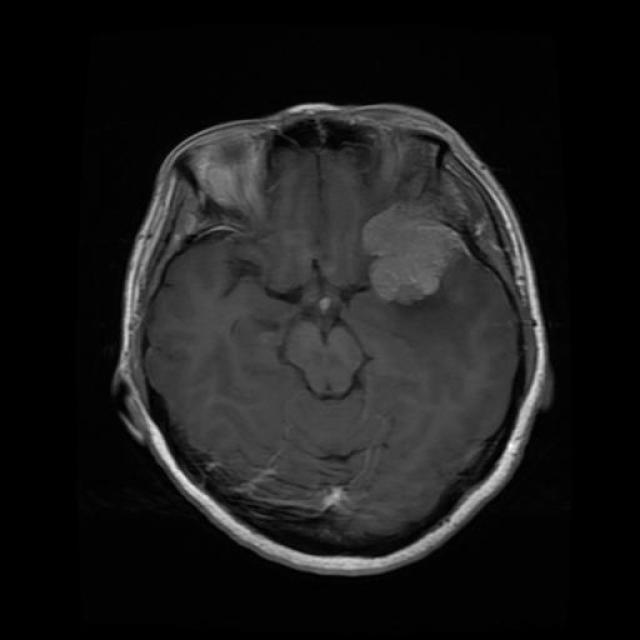Tumor: (365, 211, 470, 299)
